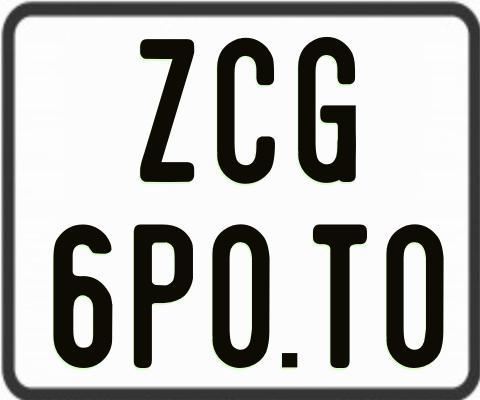0: (385, 221, 446, 370), (212, 222, 272, 371)
6: (50, 224, 114, 373)
C: (217, 36, 281, 185)
G: (296, 35, 359, 184)
P: (132, 222, 191, 372)
T: (313, 223, 372, 371)
Z: (139, 39, 196, 188)
